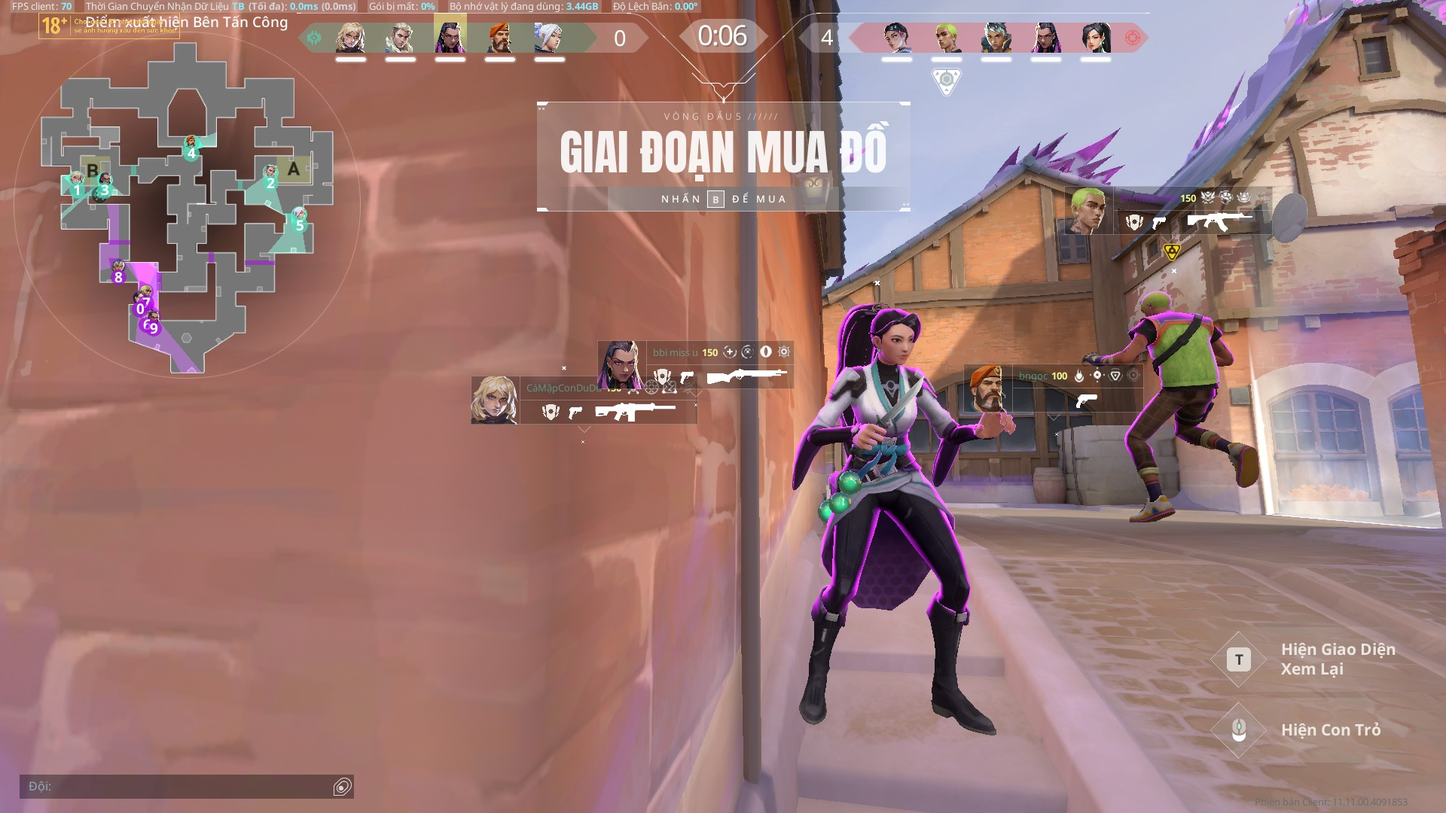body: (828, 362, 932, 471), (1138, 310, 1223, 391)
head: (870, 303, 926, 373), (1137, 292, 1180, 317)
